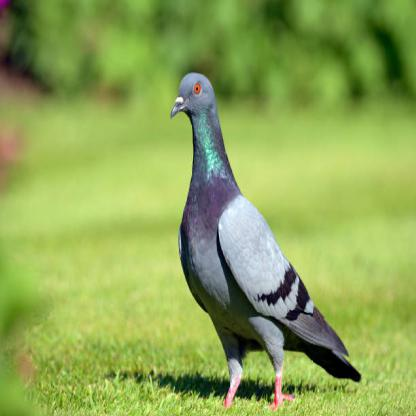Flying Rat: (161, 65, 372, 412)
